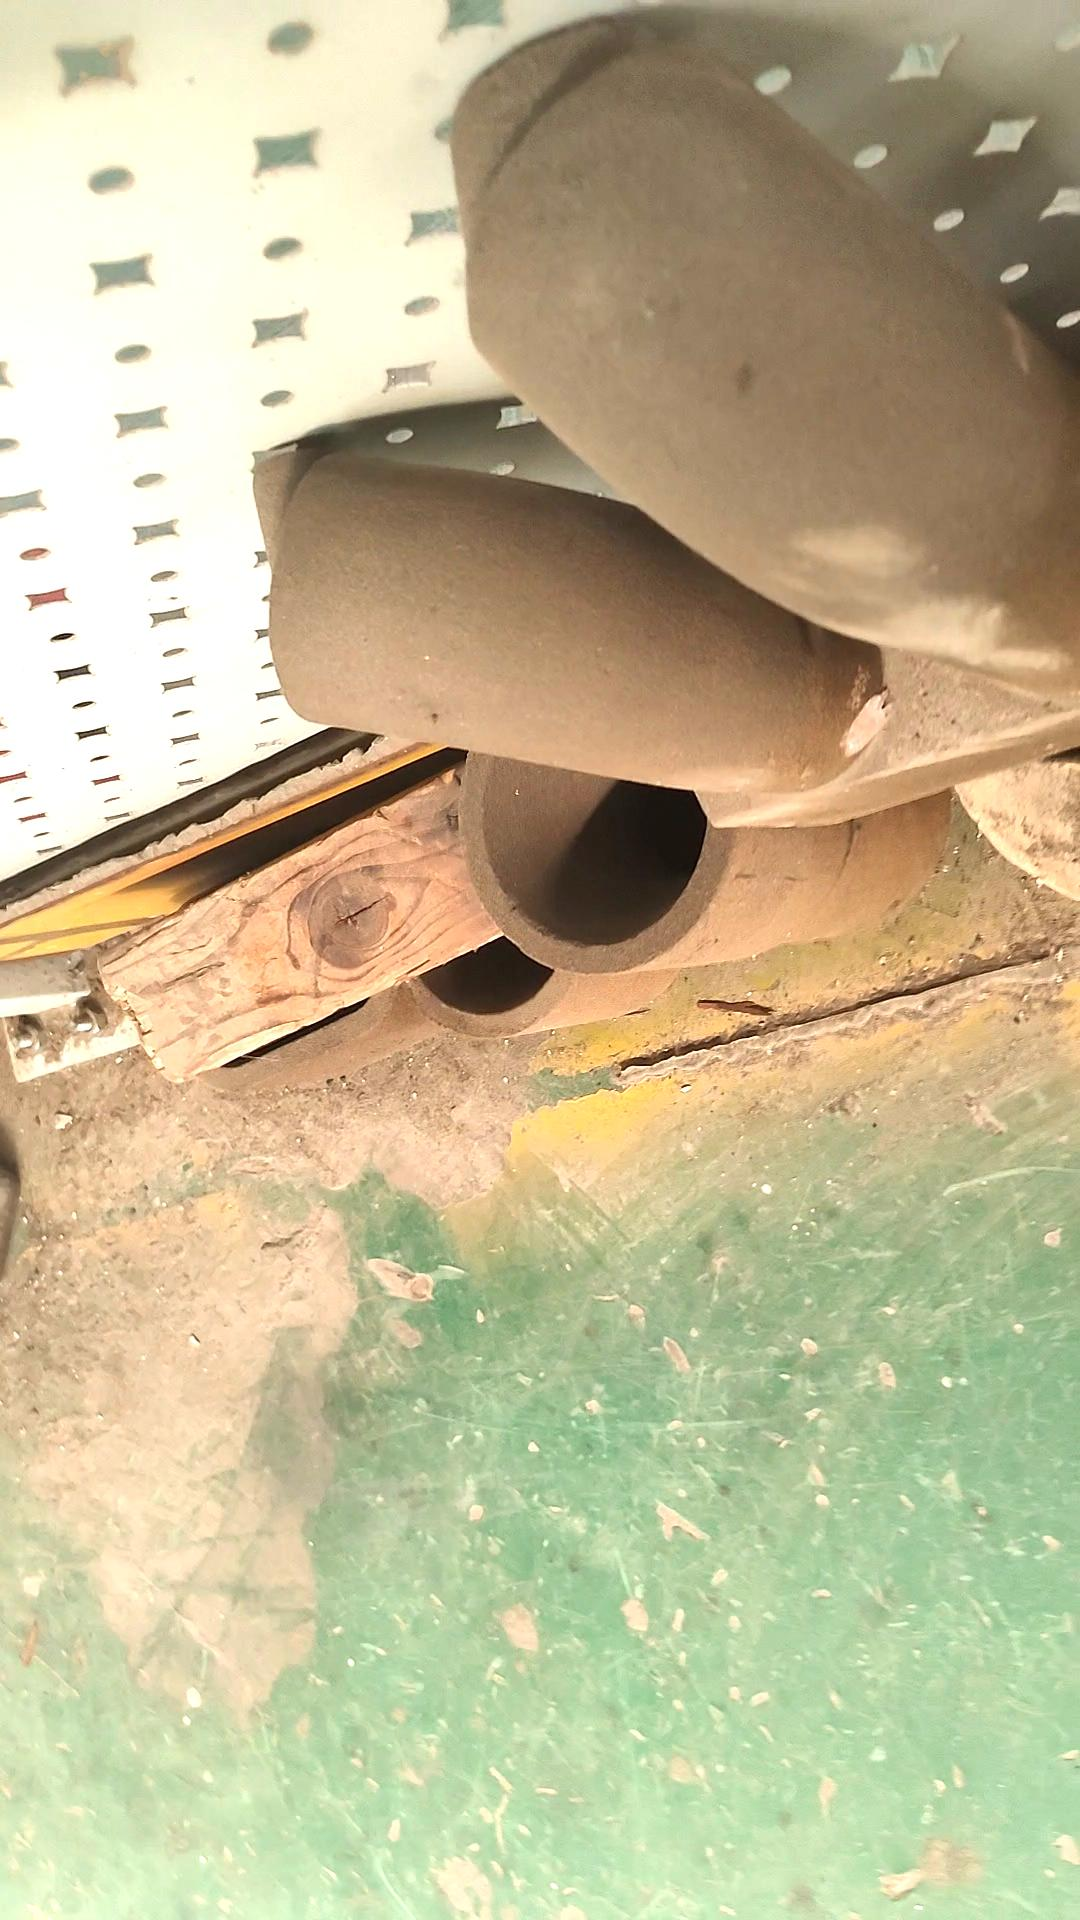pouring hole: (479, 736, 707, 949), (400, 869, 555, 1015)
